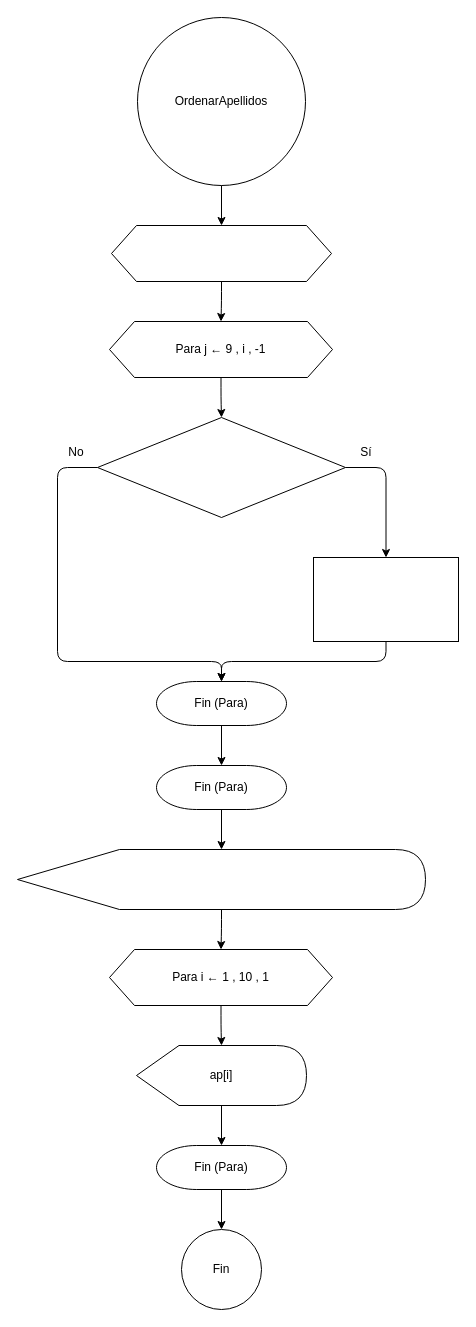
This 476x1327 diagram has some shape labels left out. The shapes that lost their labels are listed below. From the top down, each one's box as (x1, y1, x2, y2) in pixels, then its label:
(110, 224, 332, 282): Para i ← 1 , 9 , 1
(96, 416, 346, 518): ap[j] > ap[j+1]
(312, 556, 458, 642): aux ← ap[j] ap[j] ← ap[j+1] ap[j+1] ← aux
(16, 848, 426, 910): "Apellidos ordenados de manera ascendente: "
